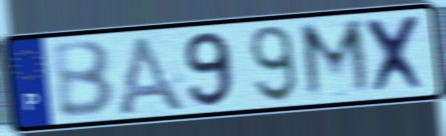9: (245, 23, 300, 105), (182, 29, 236, 110)
A: (112, 31, 191, 114)
B: (48, 37, 117, 120)
M: (297, 17, 377, 103)
X: (362, 12, 432, 97)
